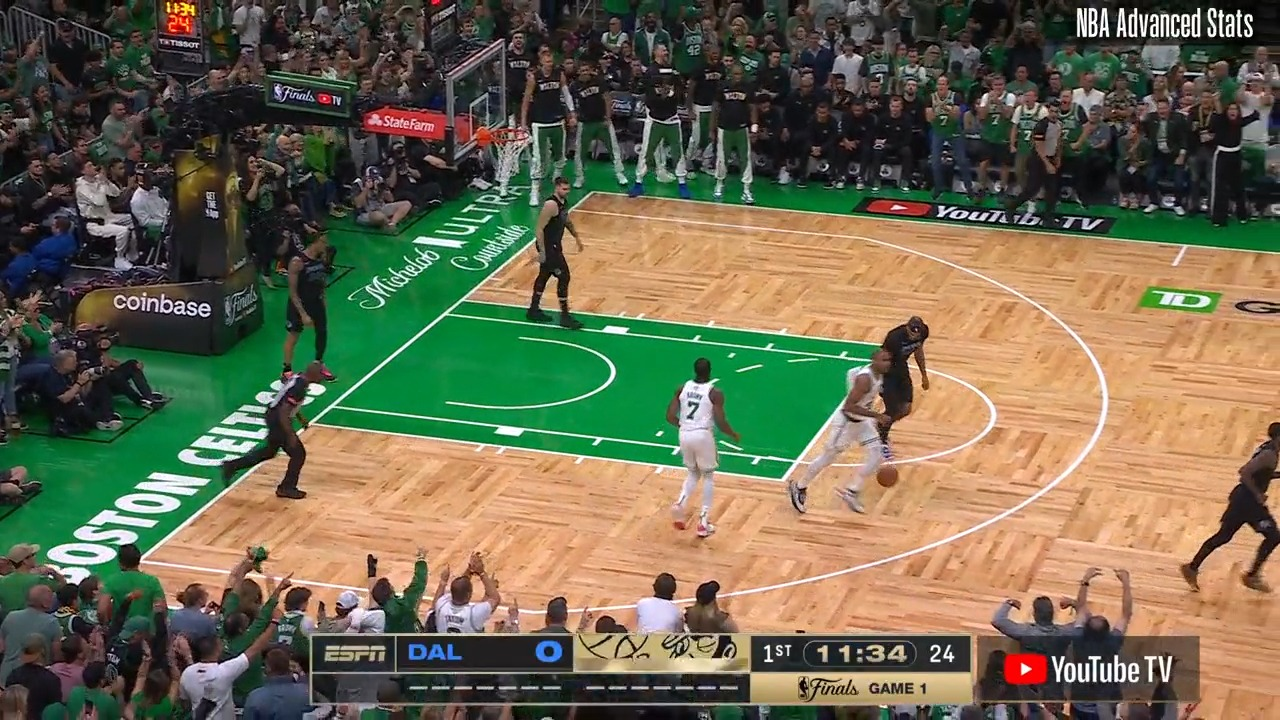basketball: (876, 464, 898, 488)
